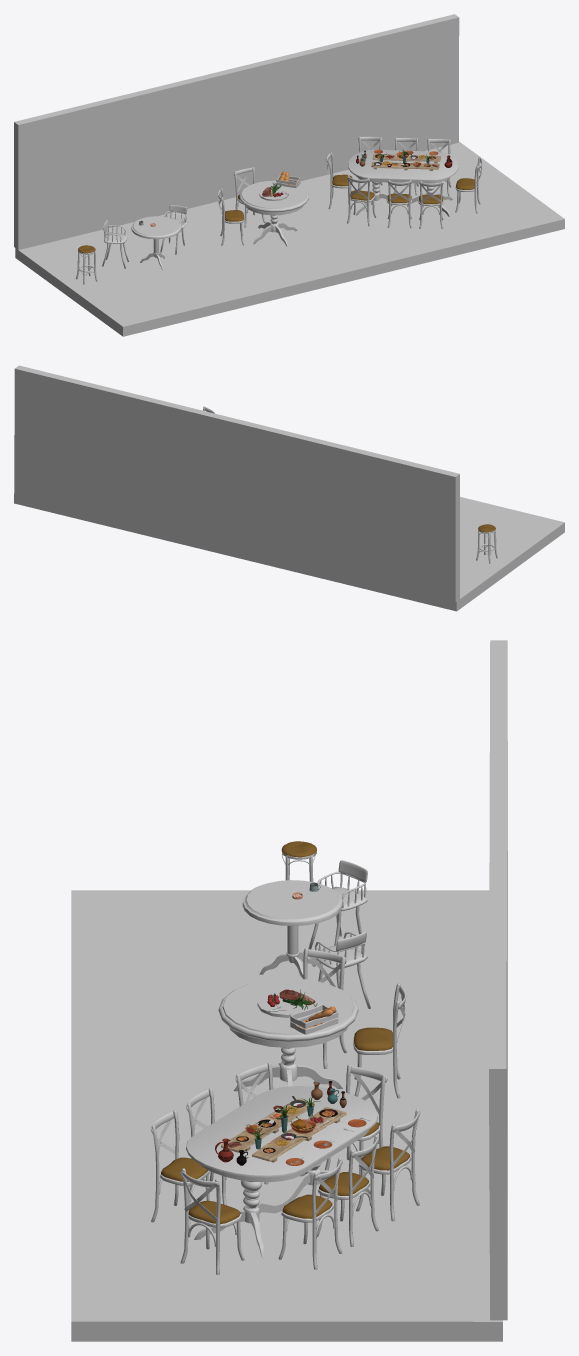
The model's file is furniture and eat.fbx.
The picture shows the model from 3 angles, top to bottom: view 1: azimuth 30°, elevation 25°; view 2: azimuth 150°, elevation 25°; view 3: azimuth 270°, elevation 25°; orthographic projection. The views are drawn at different scales.
Visible parts, largest first — view 1: Wand.Bar.001, Plane.124, Tab, Circle.044, Circle.065, Plane.127, Vert.002, Plane.010; view 2: Wand.Bar.001, Plane.124, Vert.002; view 3: Plane.124, Wand.Bar.001, Tab, Circle.044, Circle.065, Plane.127, Plane.010, Plane.104, Plane.103, Plane.122, Plane.098.
Part boxes in pixels (x1,y1,x2,y2): Wand.Bar.001: (14, 14, 459, 249); Plane.124: (15, 141, 564, 336); Tab: (348, 149, 458, 216); Circle.044: (239, 180, 308, 246); Circle.065: (131, 216, 181, 270); Plane.127: (102, 220, 128, 268); Vert.002: (76, 245, 97, 284); Plane.010: (160, 205, 187, 254); Wand.Bar.001: (14, 365, 459, 602); Plane.124: (14, 493, 564, 611); Vert.002: (476, 524, 497, 563); Plane.124: (71, 890, 502, 1341); Wand.Bar.001: (489, 640, 507, 1320); Tab: (186, 1086, 377, 1258); Circle.044: (218, 978, 358, 1091); Circle.065: (242, 880, 342, 979); Plane.127: (308, 860, 367, 949); Plane.010: (314, 931, 370, 1008); Plane.104: (252, 1107, 346, 1162); Plane.103: (221, 1098, 314, 1152); Plane.122: (290, 1004, 338, 1034); Plane.098: (354, 1027, 392, 1050).
Size of the model in its own units: 1670 by 489 by 714.
